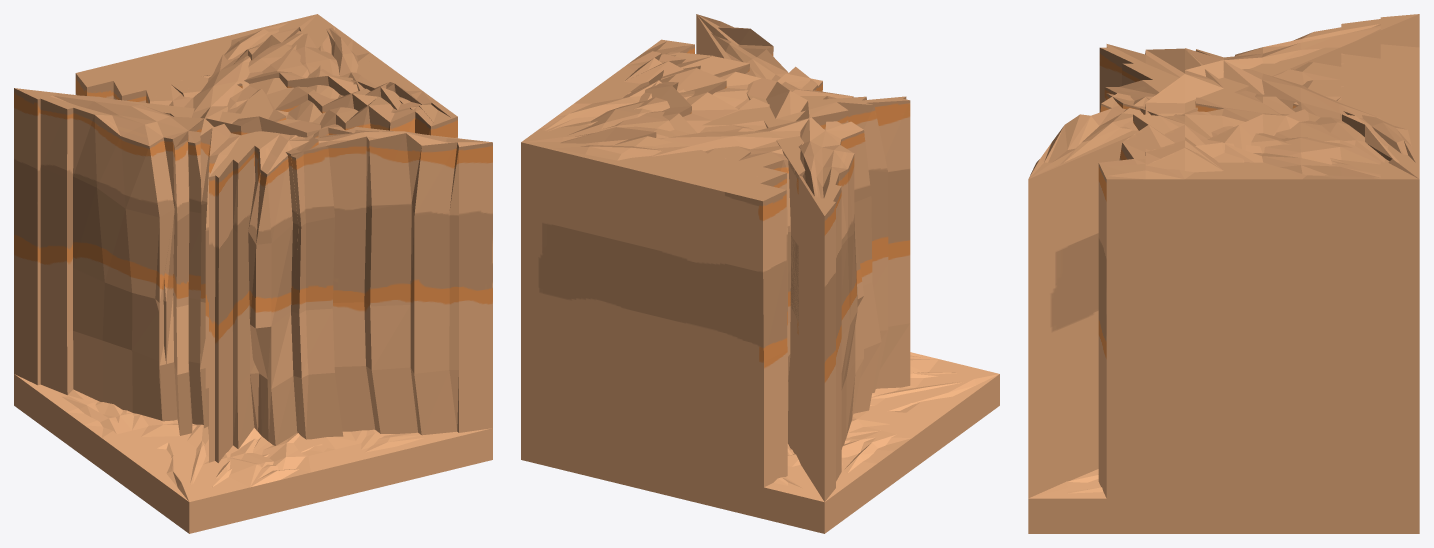
The model's file is cornerWithBlendShape.fbx.
The picture shows the model from 3 angles, left to right: view 1: azimuth 30°, elevation 25°; view 2: azimuth 150°, elevation 25°; view 3: azimuth 270°, elevation 25°; orthographic projection. The views are drawn at different scales.
Visible parts, largest first — view 1: NØY, NØX, NVY, Corner, SØX, SVY, NVX, SVX, SØY; view 2: Corner, SØX, NØX, NØY, NVY, SØY, SVX, SVY, NVX; view 3: Corner, NØY, NVY, NØX, SØX, SVX, SVY, NVX, SØY.
Part boxes in pixels (bbox=[...]): NØY: bbox=[17, 99, 492, 500]; NØX: bbox=[14, 88, 491, 499]; NVY: bbox=[196, 17, 462, 495]; Corner: bbox=[14, 14, 492, 533]; SØX: bbox=[44, 15, 314, 501]; SVY: bbox=[108, 15, 453, 116]; NVX: bbox=[190, 14, 463, 501]; SVX: bbox=[78, 15, 451, 117]; SØY: bbox=[44, 14, 316, 501]; Corner: bbox=[521, 40, 999, 533]; SØX: bbox=[539, 99, 998, 493]; NØX: bbox=[722, 54, 996, 501]; NØY: bbox=[696, 14, 995, 497]; NVY: bbox=[523, 39, 989, 380]; SØY: bbox=[522, 127, 992, 493]; SVX: bbox=[526, 41, 823, 501]; SVY: bbox=[524, 42, 816, 498]; NVX: bbox=[523, 39, 994, 381]; Corner: bbox=[1028, 47, 1419, 533]; NØY: bbox=[1028, 47, 1339, 498]; NVY: bbox=[1057, 47, 1413, 498]; NØX: bbox=[1106, 14, 1419, 161]; SØX: bbox=[1106, 44, 1419, 178]; SVX: bbox=[1030, 48, 1419, 498]; SVY: bbox=[1036, 47, 1419, 498]; NVX: bbox=[1055, 137, 1413, 498]; SØY: bbox=[1342, 47, 1419, 178].
Size of the model in its own units: 100 by 105 by 100.
1 material, 1 textured.
